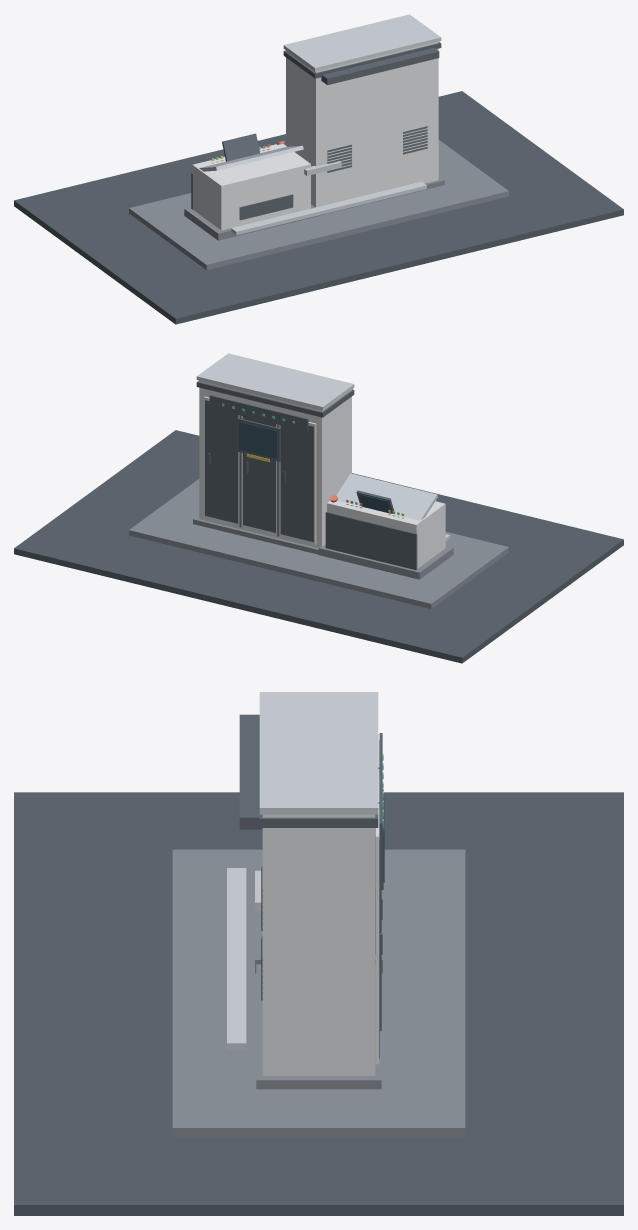
The picture shows the model from 3 angles, top to bottom: view 1: azimuth 30°, elevation 25°; view 2: azimuth 150°, elevation 25°; view 3: azimuth 270°, elevation 25°; orthographic projection. The views are drawn at different scales.
Parts seen in each view (by area): view 1: Ground, CabinetBody, Pad, ConsoleBody, CabinetTop, FloorDuct, CableTrunkTop, CabinetBand, ConsoleVent, ConsoleScreenFrame, ConsoleBase, ConsoleSlope; view 2: Ground, Pad, CabinetBody, CabinetTop, CabinetFrame_0, CabinetFrame_2, ConsoleFrontTrim, ConsoleBody, CabinetFrame_1, ConsoleSlope, ConsoleBase, UpperStatusPanel (+6 smaller); view 3: Ground, Pad, CabinetBody, CabinetTop, FloorDuct, CabinetBase, CableTrunkTop, CabinetBand, CabinetDoor_2.
Boxes of the visible parts, x1,y1,x2,y2 form: Ground: (14,91,623,324); CabinetBody: (286,41,438,207); Pad: (129,140,508,269); ConsoleBody: (192,144,310,230); CabinetTop: (283,14,441,71); FloorDuct: (231,181,426,235); CableTrunkTop: (321,47,439,85); CabinetBand: (283,42,441,78); ConsoleVent: (239,194,293,220); ConsoleScreenFrame: (222,133,259,161); ConsoleBase: (184,204,319,240); ConsoleSlope: (199,145,303,171); Ground: (14,430,623,663); Pad: (129,479,508,608); CabinetBody: (199,380,351,548); CabinetTop: (196,353,354,410); CabinetFrame_0: (280,425,313,542); CabinetFrame_2: (205,400,238,523); ConsoleFrontTrim: (325,512,417,569); ConsoleBody: (327,500,445,568); CabinetFrame_1: (243,416,275,532); ConsoleSlope: (336,473,437,520); ConsoleBase: (318,544,453,579); UpperStatusPanel: (209,395,308,431); Ground: (14,792,623,1215); Pad: (172,849,465,1137); CabinetBody: (262,814,375,1075); CabinetTop: (259,692,378,814); FloorDuct: (227,868,246,1049); CabinetBase: (256,964,381,1089); CableTrunkTop: (239,714,262,829); CabinetBand: (259,814,378,827); CabinetDoor_2: (375,803,379,1064).
Bounding box in the file's own units: 16 × 5.42 × 10.
